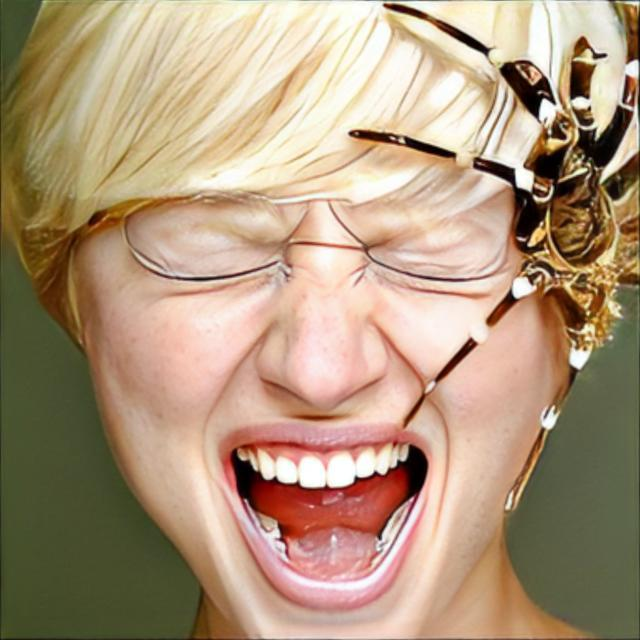fear: (67, 19, 604, 640)
